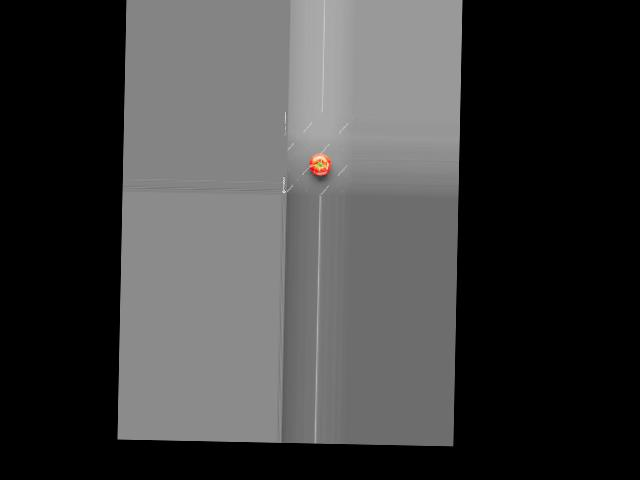tomato: (308, 152, 331, 175)
